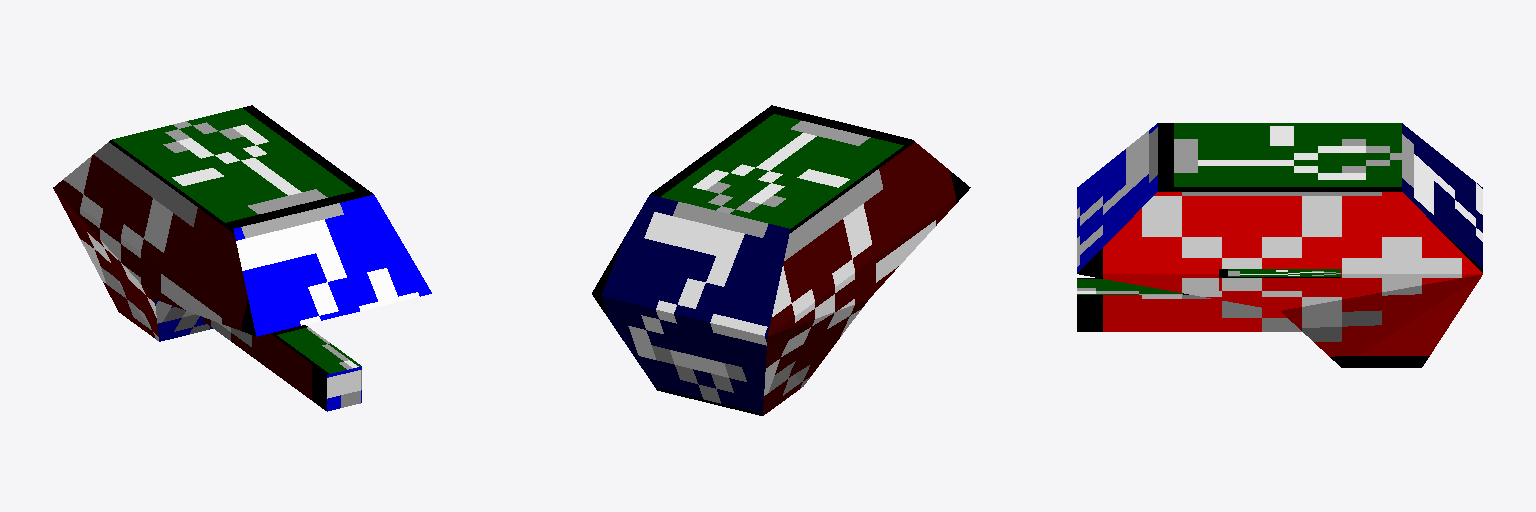
3 views of the same model, side by side, from view 1: azimuth 30°, elevation 25°; view 2: azimuth 150°, elevation 25°; view 3: azimuth 270°, elevation 25° (orthographic).
Parts seen in each view (by area): view 1: Cube; view 2: Cube; view 3: Cube.
Boxes of the visible parts, <box> form: Cube: <box>53,105,431,411</box>; Cube: <box>592,105,970,415</box>; Cube: <box>1077,123,1482,367</box>.
Bounding box in the file's own units: 1.15 × 1 × 2.
1 materials, 1 textured.